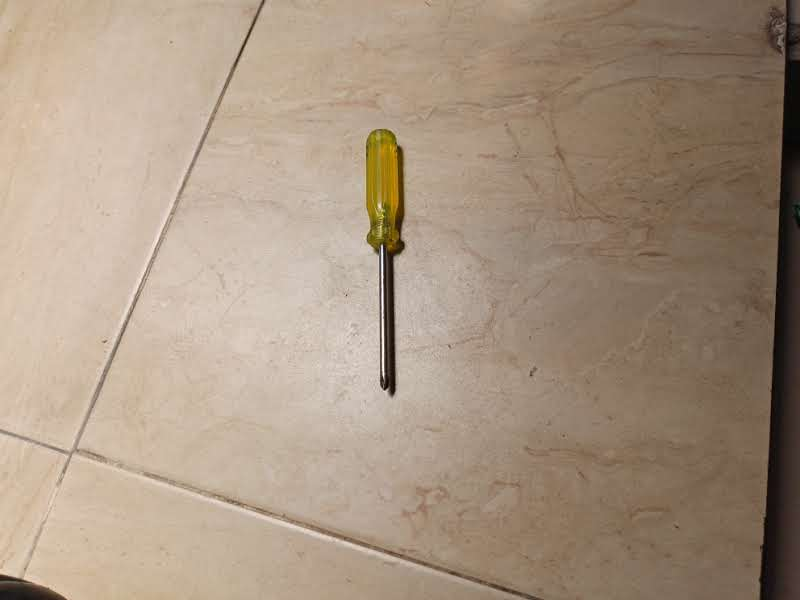Destornillador: (365, 129, 402, 389)
